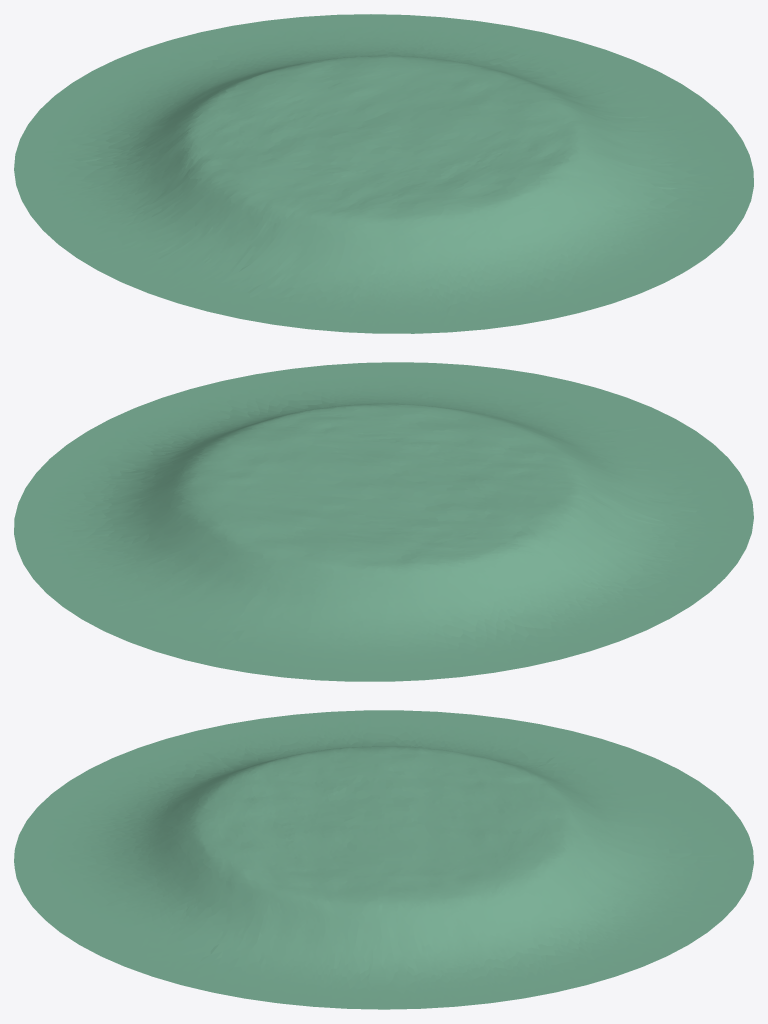
File: island_circular_C_A.fbx
3 renders of one model, top to bottom at view 1: azimuth 30°, elevation 25°; view 2: azimuth 150°, elevation 25°; view 3: azimuth 270°, elevation 25°, orthographic. The views are drawn at different scales.
Parts seen in each view (by area): view 1: island_circular_C_A; view 2: island_circular_C_A; view 3: island_circular_C_A.
Boxes of the visible parts, <box> form: island_circular_C_A: <box>14,14,753,333</box>; island_circular_C_A: <box>14,362,753,681</box>; island_circular_C_A: <box>14,710,753,1009</box>.
Bounding box in the file's own units: 28489 × 1654 × 29777.
